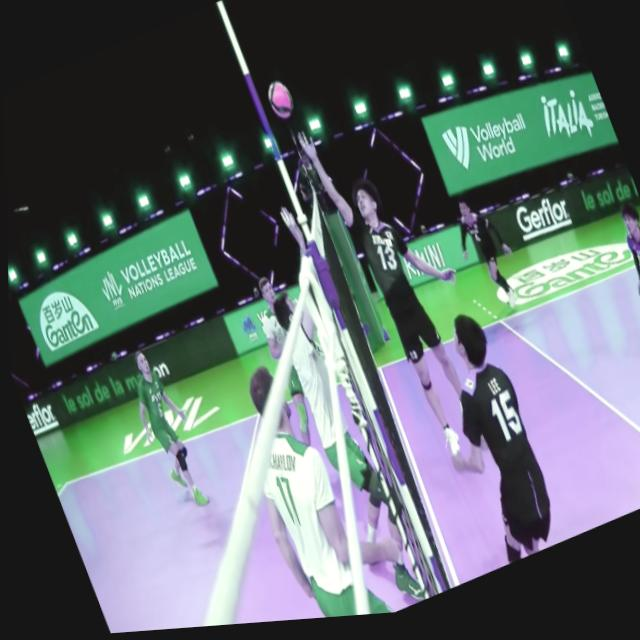player: (295, 97, 515, 485), (237, 201, 431, 625), (403, 306, 571, 581), (241, 271, 342, 470), (112, 340, 215, 523), (443, 194, 530, 331), (593, 208, 640, 378), (618, 277, 640, 497)
